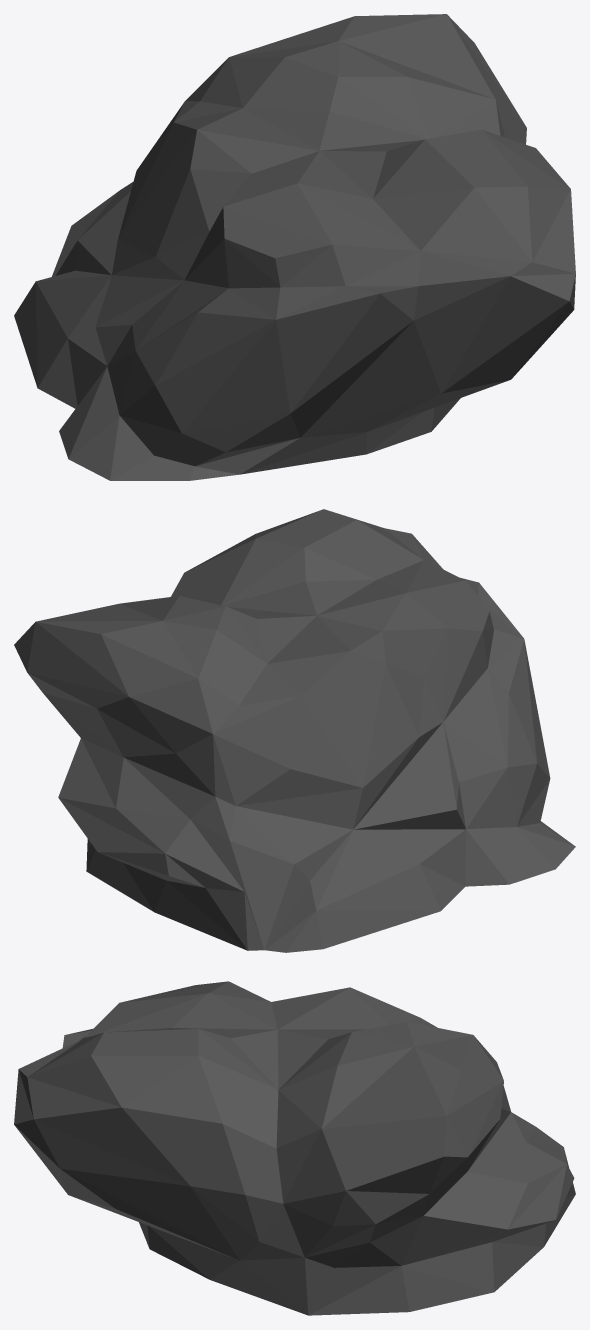
The model's file is stoun_13.fbx.
The picture shows the model from 3 angles, top to bottom: view 1: azimuth 30°, elevation 25°; view 2: azimuth 150°, elevation 25°; view 3: azimuth 270°, elevation 25°; orthographic projection. The views are drawn at different scales.
Visible parts, largest first — view 1: Object.019; view 2: Object.019; view 3: Object.019.
Boxes of the visible parts, bbox=[...] form: Object.019: bbox=[14, 14, 575, 480]; Object.019: bbox=[14, 509, 575, 952]; Object.019: bbox=[14, 981, 575, 1315].
Bounding box in the file's own units: 197 × 97.55 × 216.
